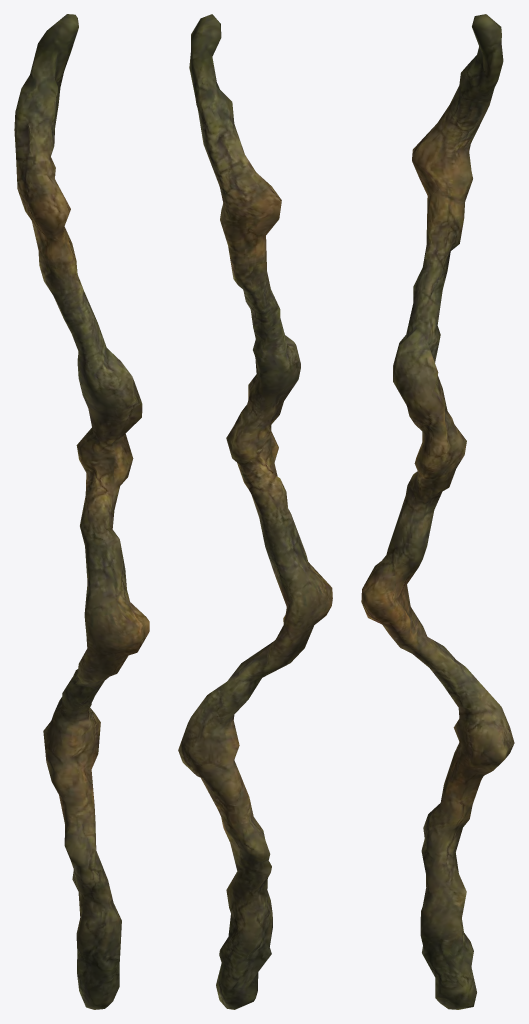
File: Biomass - T 3-Zy0Qvj9F.glb
The picture shows the model from 3 angles, left to right: view 1: azimuth 90°, elevation 25°; view 2: azimuth 150°, elevation 25°; view 3: azimuth 330°, elevation 25°; orthographic projection.
Parts seen in each view (by area): view 1: BiomassT_3; view 2: BiomassT_3; view 3: BiomassT_3.
Part boxes in pixels (x1,y1,x2,y2): BiomassT_3: (14, 14, 149, 1009); BiomassT_3: (178, 14, 332, 1009); BiomassT_3: (361, 14, 514, 1009).
Bounding box in the file's own units: 0.4799 × 3.67 × 0.4544.
1 material, 1 textured.
